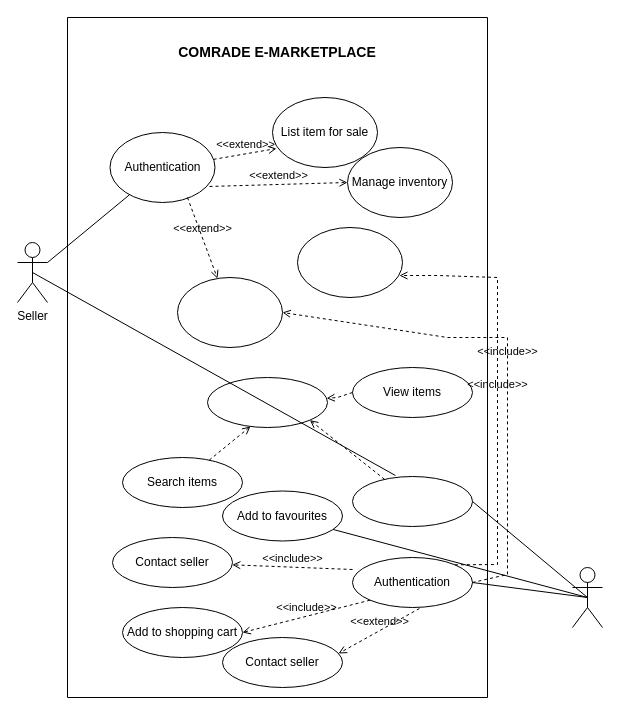
Some shapes in this 620 by 715 pixel diagram are drawn without their labels. The box of each missing label's shape, as (x1, y1, x2, y2) in pixels:
Browse categories: (352, 476, 472, 526)
Buyer: (572, 566, 602, 628)
Item description: (206, 376, 328, 428)
Manage profile: (176, 276, 282, 348)
view order history: (296, 226, 402, 298)
